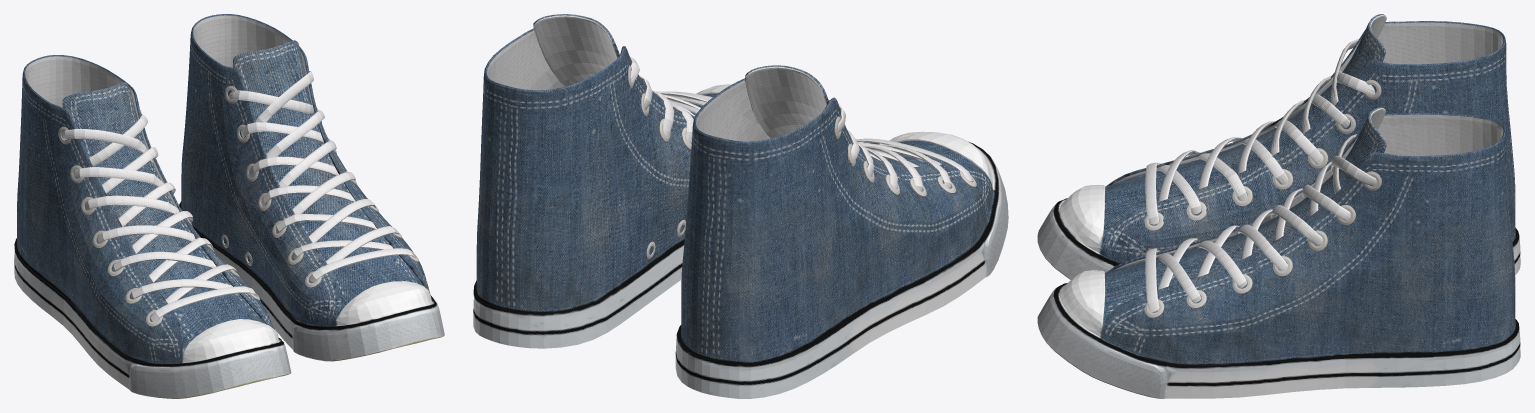
Rendered from boot.glb.
3 views of the same model, side by side, from view 1: azimuth 30°, elevation 25°; view 2: azimuth 150°, elevation 25°; view 3: azimuth 270°, elevation 25° (orthographic). The views are drawn at different scales.
Parts seen in each view (by area): view 1: converse_obj; view 2: converse_obj; view 3: converse_obj.
Part boxes in pixels (x1,y1,x2,y2): converse_obj: [14, 14, 444, 398]; converse_obj: [473, 14, 1008, 398]; converse_obj: [1037, 14, 1520, 398].
Size of the model in its own units: 20.5 by 14.46 by 25.64.
3 materials, 2 textured.
